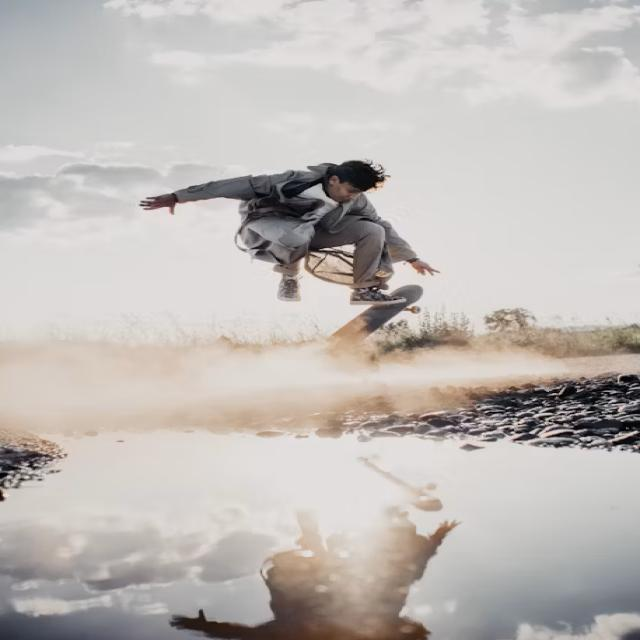Edited images: (106, 136, 465, 353)
